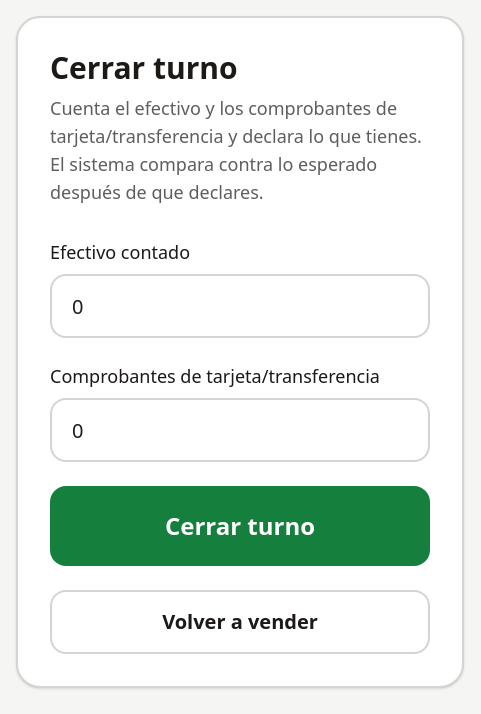
Scenario: CloseShiftScreen › muestra "Faltante" cuando lo contado es menor a lo esperado
Replace the text in the number field labelled "Efectivo contado" with "480" at coordinates (240, 306), box [50, 274, 430, 338]
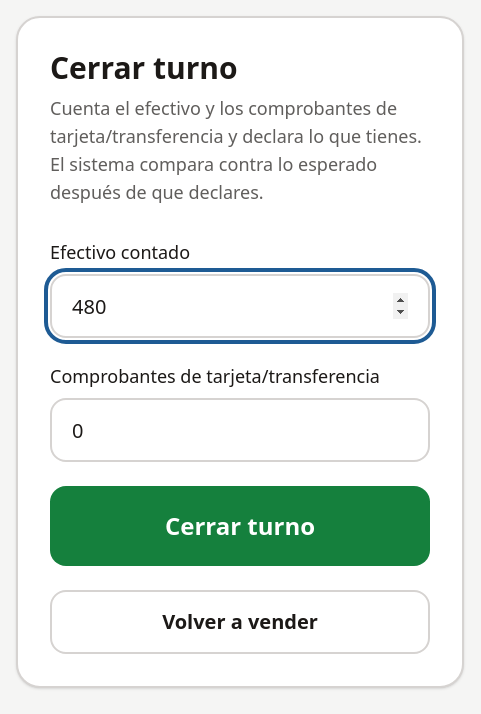
Click the button "Cerrar turno" at coordinates (240, 526), box [50, 486, 430, 566]
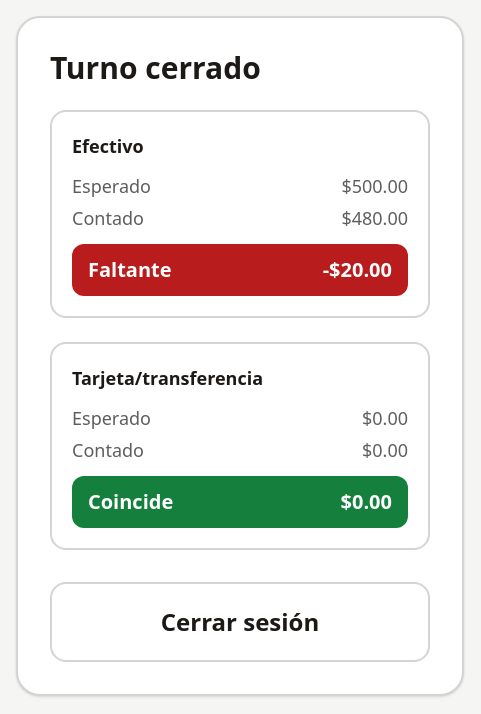
Expected: the text "Faltante" is shown, [88, 256, 172, 284]
